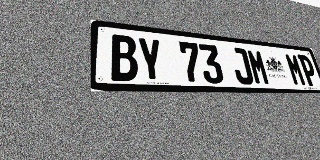3: (198, 44, 225, 84)
7: (177, 41, 204, 83)
B: (110, 34, 139, 81)
J: (229, 47, 255, 85)
M: (246, 49, 271, 85), (284, 53, 307, 86)
P: (297, 54, 320, 86)
Y: (136, 37, 165, 82)
